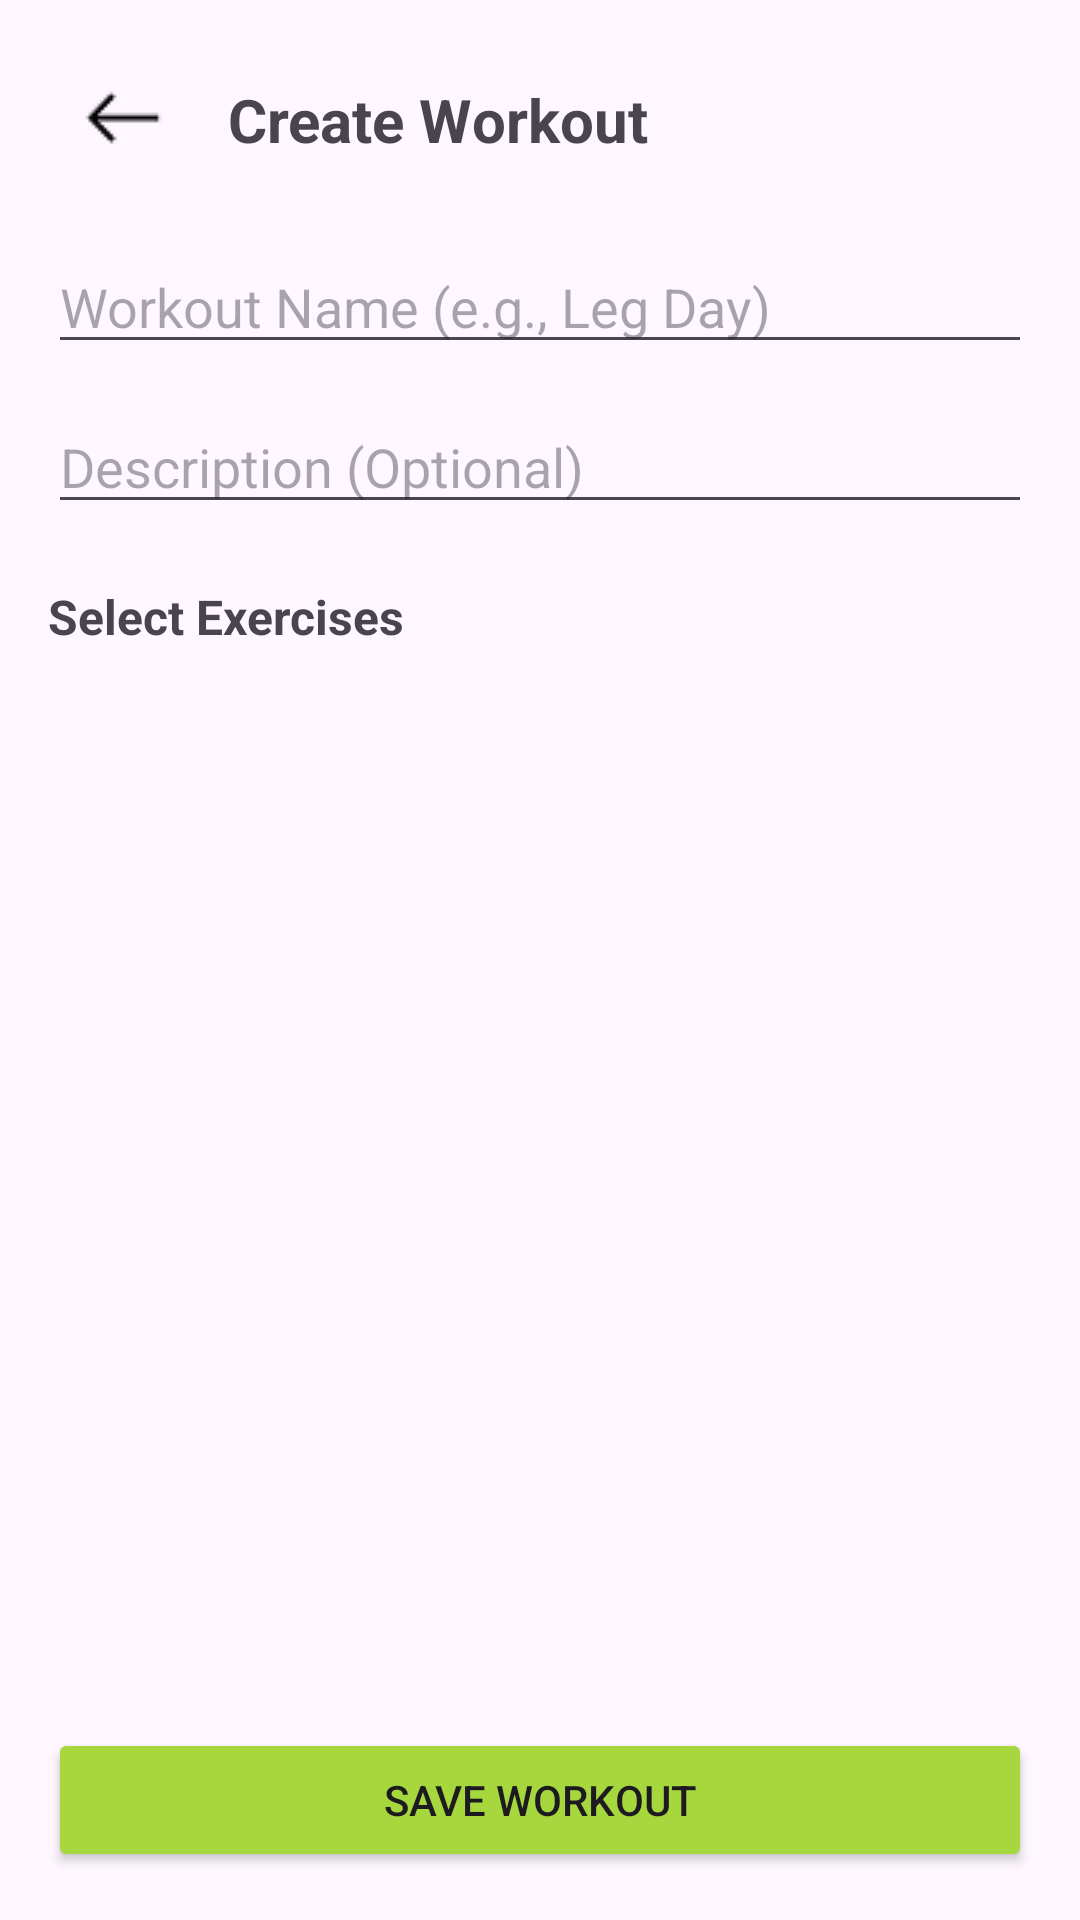

Icons on this 1080x1920 Android screen, each with its box as [x1,y1,x2,y2]:
Back: [86,92,161,144]
